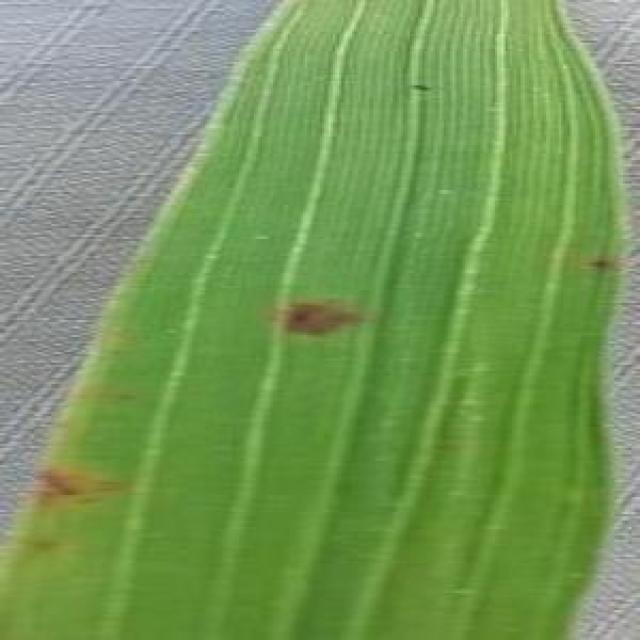Brown_Spot: (21, 445, 128, 518), (266, 286, 381, 345), (583, 253, 626, 285)
